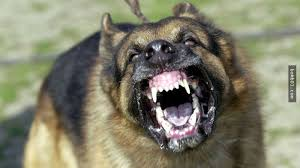dog: (92, 20, 248, 145)
